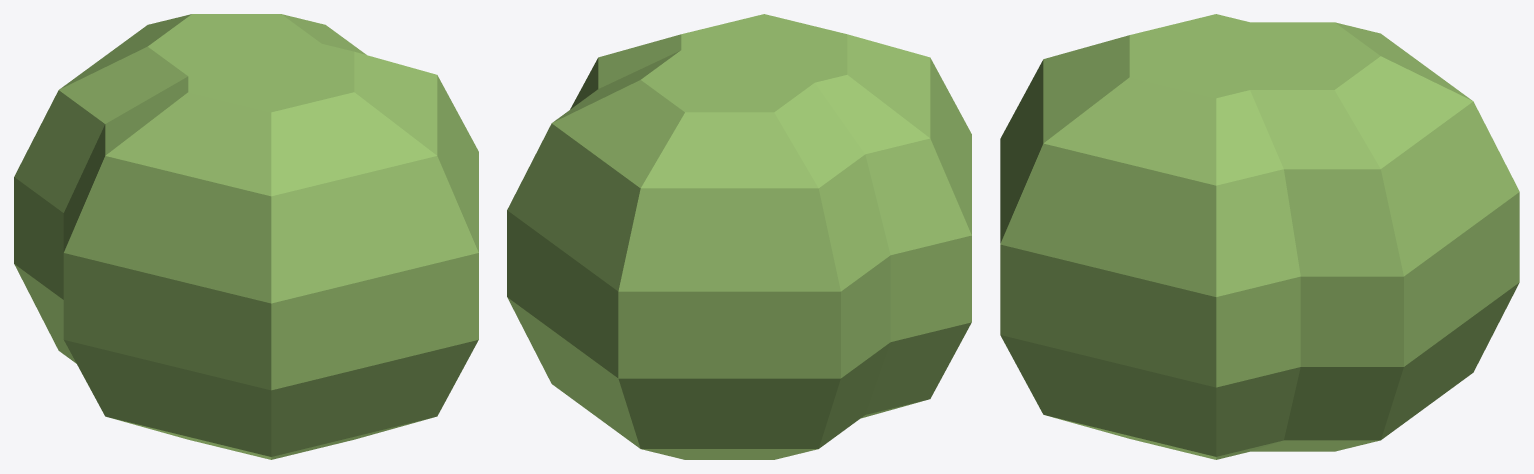
File: Hilly_Prop_Bush_3.glb
The picture shows the model from 3 angles, left to right: view 1: azimuth 30°, elevation 25°; view 2: azimuth 150°, elevation 25°; view 3: azimuth 270°, elevation 25°; orthographic projection. The views are drawn at different scales.
Parts seen in each view (by area): view 1: Hilly_Prop_Bush_3; view 2: Hilly_Prop_Bush_3; view 3: Hilly_Prop_Bush_3.
Boxes of the visible parts, x1,y1,x2,y2 form: Hilly_Prop_Bush_3: (14,14,478,459); Hilly_Prop_Bush_3: (507,14,971,459); Hilly_Prop_Bush_3: (1000,14,1519,459).
Bounding box in the file's own units: 1 × 0.8 × 1.04.
